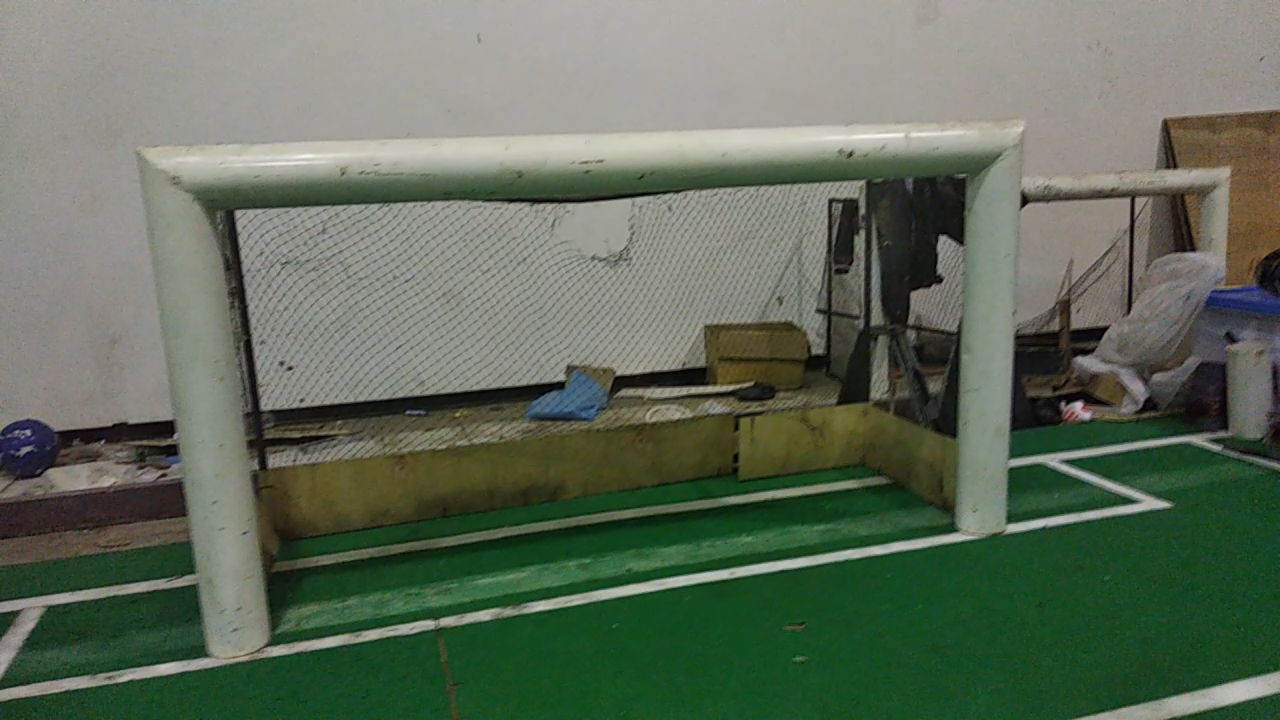gawang: (119, 100, 1036, 666)
